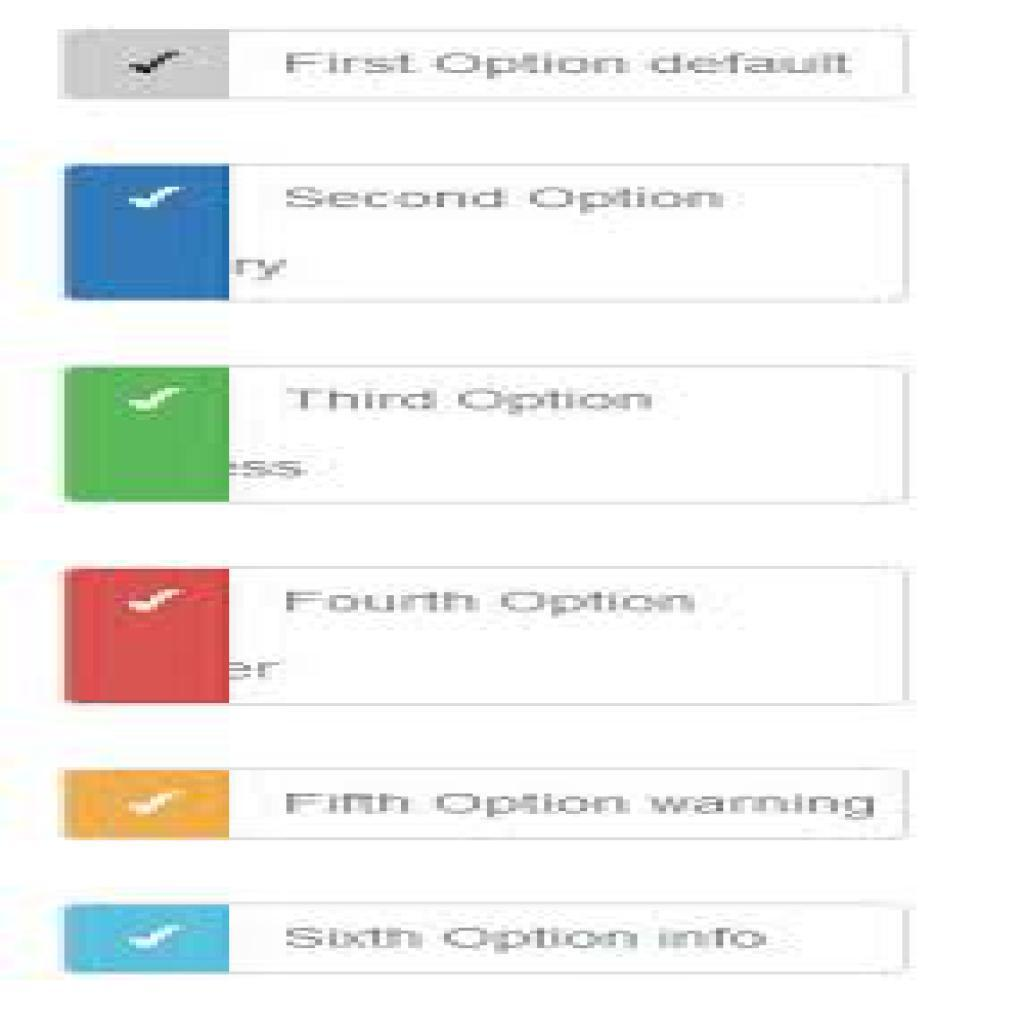checkbox: (68, 569, 231, 705), (64, 370, 230, 503), (68, 166, 229, 301), (65, 904, 230, 978), (63, 770, 232, 841), (64, 30, 230, 102)
label: (281, 787, 887, 828), (281, 44, 859, 80), (282, 920, 770, 956), (285, 180, 734, 218), (275, 581, 701, 620), (281, 384, 656, 421)
